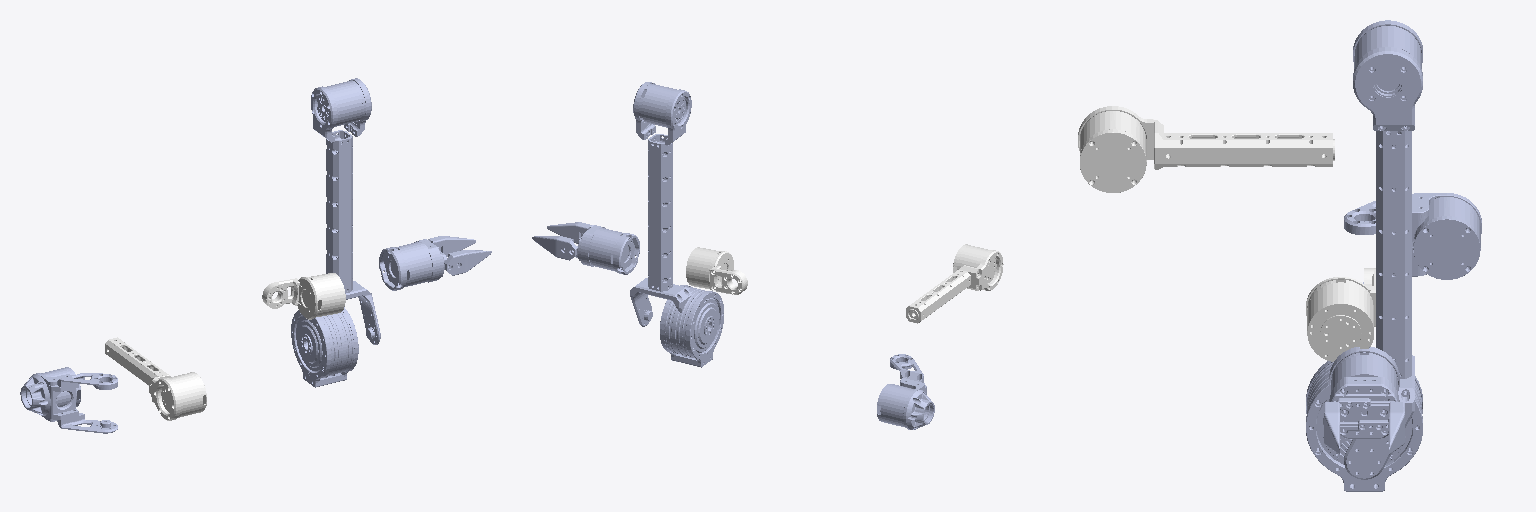
The robot description file, URDF, robot "A1_URDF":
<?xml version="1.0" encoding="utf-8"?>
<!-- This URDF was automatically created by SolidWorks to URDF Exporter! Originally created by [author] ([email redacted]) 
     Commit Version: 1.6.0-4-g7f85cfe  Build Version: 1.6.7995.38578
     For more information, please see http://wiki.ros.org/sw_urdf_exporter -->
<robot
  name="A1_URDF">
  <link
    name="base_link">
    <inertial>
      <origin
        xyz="-0.00056269 -4.1498E-06 0.038934"
        rpy="0 0 0" />
      <mass
        value="1.0" />
      <inertia
        ixx="0.0010597"
        ixy="1.6825E-07"
        ixz="1.9821E-05"
        iyy="0.0010647"
        iyz="1.9312E-07"
        izz="0.0011787" />
    </inertial>
    <visual>
      <origin
        xyz="0 0 0"
        rpy="0 0 0" />
      <geometry>
        <mesh
          filename="package://A1_URDF/meshes/base_link.STL" />
      </geometry>
      <material
        name="">
        <color
          rgba="0.79216 0.81961 0.93333 1" />
      </material>
    </visual>
    <collision>
      <origin
        xyz="0 0 0"
        rpy="0 0 0" />
      <geometry>
        <mesh
          filename="package://A1_URDF/meshes/base_link.STL" />
      </geometry>
    </collision>
  </link>
  <link
    name="arm_seg1">
    <inertial>
      <origin
        xyz="-1.4403E-06 -0.00074041 0.056573"
        rpy="0 0 0" />
      <mass
        value="0.95" />
      <inertia
        ixx="0.00058101"
        ixy="-7.5672E-09"
        ixz="-2.9207E-08"
        iyy="0.00070857"
        iyz="8.5639E-07"
        izz="0.00044583" />
    </inertial>
    <visual>
      <origin
        xyz="0 0 0"
        rpy="0 0 0" />
      <geometry>
        <mesh
          filename="package://A1_URDF/meshes/arm_seg1.STL" />
      </geometry>
      <material
        name="">
        <color
          rgba="0.79216 0.81961 0.93333 1" />
      </material>
    </visual>
    <collision>
      <origin
        xyz="0 0 0"
        rpy="0 0 0" />
      <geometry>
        <mesh
          filename="package://A1_URDF/meshes/arm_seg1.STL" />
      </geometry>
    </collision>
  </link>
  <joint
    name="arm_joint1"
    type="revolute">
    <origin
      xyz="-0.0011147 0 0.0892"
      rpy="0 0 3.1416" />
    <parent
      link="base_link" />
    <child
      link="arm_seg1" />
    <axis
      xyz="0 0 1" />
    <limit
      lower="-2.8798"
      upper="2.8798"
      effort="40"
      velocity="20.944" />
  </joint>
  <link
    name="arm_seg2">
    <inertial>
      <origin
        xyz="0.23622 0.016356 9.154E-05"
        rpy="0 0 0" />
      <mass
        value="1.0" />
      <inertia
        ixx="0.00060643"
        ixy="-0.00041827"
        ixz="0.00014951"
        iyy="0.0075939"
        iyz="8.093E-06"
        izz="0.0075715" />
    </inertial>
    <visual>
      <origin
        xyz="0 0 0"
        rpy="0 0 0" />
      <geometry>
        <mesh
          filename="package://A1_URDF/meshes/arm_seg2.STL" />
      </geometry>
      <material
        name="">
        <color
          rgba="0.79216 0.81961 0.93333 1" />
      </material>
    </visual>
    <collision>
      <origin
        xyz="0 0 0"
        rpy="0 0 0" />
      <geometry>
        <mesh
          filename="package://A1_URDF/meshes/arm_seg2.STL" />
      </geometry>
    </collision>
  </link>
  <joint
    name="arm_joint2"
    type="revolute">
    <origin
      xyz="0 -4E-05 0.0615"
      rpy="1.5708 0 0" />
    <parent
      link="arm_seg1" />
    <child
      link="arm_seg2" />
    <axis
      xyz="0 0 1" />
    <limit
      lower="0"
      upper="3.1415"
      effort="40"
      velocity="20.944" />
  </joint>
  <link
    name="arm_seg3">
    <inertial>
      <origin
        xyz="0.054443 0.045347 0.00042807"
        rpy="0 0 0" />
      <mass
        value="0.70" />
      <inertia
        ixx="0.0013904"
        ixy="-0.00022559"
        ixz="9.6874E-06"
        iyy="0.00059564"
        iyz="7.1658E-06"
        izz="0.0014962" />
    </inertial>
    <visual>
      <origin
        xyz="0 0 0"
        rpy="0 0 0" />
      <geometry>
        <mesh
          filename="package://A1_URDF/meshes/arm_seg3.STL" />
      </geometry>
      <material
        name="">
        <color
          rgba="0.79216 0.81961 0.93333 1" />
      </material>
    </visual>
    <collision>
      <origin
        xyz="0 0 0"
        rpy="0 0 0" />
      <geometry>
        <mesh
          filename="package://A1_URDF/meshes/arm_seg3.STL" />
      </geometry>
    </collision>
  </link>
  <joint
    name="arm_joint3"
    type="revolute">
    <origin
      xyz="0.34928 0.02 0"
      rpy="0 0 1.5708" />
    <parent
      link="arm_seg2" />
    <child
      link="arm_seg3" />
    <axis
      xyz="0 0 1" />
    <limit
      lower="-3.3161"
      upper="0"
      effort="27"
      velocity="7.5398" />
  </joint>
  <link
    name="arm_seg4">
    <inertial>
      <origin
        xyz="7.6256E-07 -0.0021448 0.27415"
        rpy="0 0 0" />
      <mass
        value="0.4" />
      <inertia
        ixx="9.7042E-05"
        ixy="-5.177E-09"
        ixz="-2.2681E-09"
        iyy="0.00010174"
        iyz="8.2528E-07"
        izz="8.4501E-05" />
    </inertial>
    <visual>
      <origin
        xyz="0 0 0"
        rpy="0 0 0" />
      <geometry>
        <mesh
          filename="package://A1_URDF/meshes/arm_seg4.STL" />
      </geometry>
      <material
        name="">
        <color
          rgba="1 1 1 1" />
      </material>
    </visual>
    <collision>
      <origin
        xyz="0 0 0"
        rpy="0 0 0" />
      <geometry>
        <mesh
          filename="package://A1_URDF/meshes/arm_seg4.STL" />
      </geometry>
    </collision>
  </link>
  <joint
    name="arm_joint4"
    type="revolute">
    <origin
      xyz="0.07 -0.00395 -4E-05"
      rpy="-1.5708 1.5708 0" />
    <parent
      link="arm_seg3" />
    <child
      link="arm_seg4" />
    <axis
      xyz="0 0 1" />
    <limit
      lower="-2.8798"
      upper="2.8798"
      effort="7"
      velocity="25.133" />
  </joint>
  <link
    name="arm_seg5">
    <inertial>
      <origin
        xyz="-3.9997E-06 -0.05431 0.0034482"
        rpy="0 0 0" />
      <mass
        value="0.3" />
      <inertia
        ixx="0.00011332"
        ixy="7.432E-08"
        ixz="1.368E-08"
        iyy="8.3999E-05"
        iyz="-1.6234E-05"
        izz="9.8497E-05" />
    </inertial>
    <visual>
      <origin
        xyz="0 0 0"
        rpy="0 0 0" />
      <geometry>
        <mesh
          filename="package://A1_URDF/meshes/arm_seg5.STL" />
      </geometry>
      <material
        name="">
        <color
          rgba="1 1 1 1" />
      </material>
    </visual>
    <collision>
      <origin
        xyz="0 0 0"
        rpy="0 0 0" />
      <geometry>
        <mesh
          filename="package://A1_URDF/meshes/arm_seg5.STL" />
      </geometry>
    </collision>
  </link>
  <joint
    name="arm_joint5"
    type="revolute">
    <origin
      xyz="0 0 0.2776"
      rpy="-1.5708 0 3.1416" />
    <parent
      link="arm_seg4" />
    <child
      link="arm_seg5" />
    <axis
      xyz="0 0 1" />
    <limit
      lower="-1.6581"
      upper="1.6581"
      effort="7"
      velocity="25.133" />
  </joint>
  <link
    name="arm_seg6">
    <inertial>
      <origin
        xyz="2.406E-06 -9.4582E-08 -0.038796"
        rpy="0 0 0" />
      <mass
        value="0.35" />
      <inertia
        ixx="0.00011445"
        ixy="3.336E-10"
        ixz="1.4799E-08"
        iyy="0.00011239"
        iyz="-6.1057E-10"
        izz="7.4519E-05" />
    </inertial>
    <visual>
      <origin
        xyz="0 0 0"
        rpy="0 0 0" />
      <geometry>
        <mesh
          filename="package://A1_URDF/meshes/arm_seg6.STL" />
      </geometry>
      <material
        name="">
        <color
          rgba="0.79216 0.81961 0.93333 1" />
      </material>
    </visual>
    <collision>
      <origin
        xyz="0 0 0"
        rpy="0 0 0" />
      <geometry>
        <mesh
          filename="package://A1_URDF/meshes/arm_seg6.STL" />
      </geometry>
    </collision>
  </link>
  <joint
    name="arm_joint6"
    type="revolute">
    <origin
      xyz="0 -0.1575 -0.00023266"
      rpy="1.5708 0 0" />
    <parent
      link="arm_seg5" />
    <child
      link="arm_seg6" />
    <axis
      xyz="0 0 1" />
    <limit
      lower="-2.8798"
      upper="2.8798"
      effort="7"
      velocity="25.133" />
  </joint>
  <link
    name="gripper1">
    <inertial>
      <origin
        xyz="0.022575 -0.01276 0.015787"
        rpy="0 0 0" />
      <mass
        value="0.020333" />
      <inertia
        ixx="1.7676E-06"
        ixy="8.2594E-08"
        ixz="2.5995E-07"
        iyy="4.7258E-06"
        iyz="1.2291E-07"
        izz="5.2672E-06" />
    </inertial>
    <visual>
      <origin
        xyz="0 0 0"
        rpy="0 0 0" />
      <geometry>
        <mesh
          filename="package://A1_URDF/meshes/gripper1.STL" />
      </geometry>
      <material
        name="">
        <color
          rgba="0.79216 0.81961 0.93333 1" />
      </material>
    </visual>
    <collision>
      <origin
        xyz="0 0 0"
        rpy="0 0 0" />
      <geometry>
        <mesh
          filename="package://A1_URDF/meshes/gripper1.STL" />
      </geometry>
    </collision>
  </link>
  <joint
    name="gripper1_axis"
    type="prismatic">
    <origin
      xyz="0.014 -0.011914 0.003125"
      rpy="1.5708 -1.5708 3.1415" />
    <parent
      link="arm_seg6" />
    <child
      link="gripper1" />
    <axis
      xyz="0 0 1" />
    <limit
      lower="0"
      upper="0.03"
      effort="200"
      velocity="0.25" />
  </joint>
  <link
    name="gripper2">
    <inertial>
      <origin
        xyz="0.022575 -0.01276 0.015787"
        rpy="0 0 0" />
      <mass
        value="0.020333" />
      <inertia
        ixx="1.7676E-06"
        ixy="8.2594E-08"
        ixz="2.5995E-07"
        iyy="4.7258E-06"
        iyz="1.2291E-07"
        izz="5.2672E-06" />
    </inertial>
    <visual>
      <origin
        xyz="0 0 0"
        rpy="0 0 0" />
      <geometry>
        <mesh
          filename="package://A1_URDF/meshes/gripper2.STL" />
      </geometry>
      <material
        name="">
        <color
          rgba="0.79216 0.81961 0.93333 1" />
      </material>
    </visual>
    <collision>
      <origin
        xyz="0 0 0"
        rpy="0 0 0" />
      <geometry>
        <mesh
          filename="package://A1_URDF/meshes/gripper2.STL" />
      </geometry>
    </collision>
  </link>
  <joint
    name="gripper2_axis"
    type="prismatic">
    <origin
      xyz="-0.014 0.011914 0.003125"
      rpy="-1.5708 -1.5708 3.1415" />
    <parent
      link="arm_seg6" />
    <child
      link="gripper2" />
    <axis
      xyz="0 0 1" />
    <limit
      lower="0"
      upper="0.03"
      effort="200"
      velocity="0.25" />
  </joint>
</robot>

--- Facts derived from the render (not from the file) ---
Views: 3 orthographic renders of the robot side by side, from view 1: azimuth 30°, elevation 25°; view 2: azimuth 150°, elevation 25°; view 3: azimuth 270°, elevation 25°.
Model A1_URDF with 9 links and 8 joints (6 revolute, 2 prismatic), rooted at base_link, posed every joint at zero.
Links seen in each view (by area): view 1: arm_seg2, arm_seg1, arm_seg6, arm_seg3, arm_seg4, arm_seg5; view 2: arm_seg2, arm_seg1, arm_seg6, arm_seg4, arm_seg3, arm_seg5; view 3: arm_seg2, arm_seg4, arm_seg6, arm_seg3, arm_seg5, arm_seg1.
Boxes of the visible links, x1,y1,x2,y2 form: arm_seg2: (311, 78, 380, 344); arm_seg1: (291, 307, 358, 387); arm_seg6: (379, 236, 491, 290); arm_seg3: (20, 367, 117, 433); arm_seg4: (105, 337, 206, 420); arm_seg5: (262, 273, 345, 319); arm_seg2: (630, 82, 691, 326); arm_seg1: (660, 285, 723, 367); arm_seg6: (532, 222, 639, 274); arm_seg4: (906, 244, 1003, 323); arm_seg3: (877, 354, 934, 429); arm_seg5: (686, 247, 747, 294); arm_seg2: (1344, 20, 1422, 479); arm_seg4: (1078, 106, 1334, 192); arm_seg6: (1324, 347, 1404, 454); arm_seg3: (1344, 193, 1481, 283); arm_seg5: (1306, 268, 1375, 361); arm_seg1: (1306, 361, 1422, 491).
Size in the robot's own frame: 0.6886 by 0.3431 by 0.4325 metres.
6 mesh visuals loaded from 9 distinct referenced files (6 binary STL); not drawn: 3 (reference not matched to a file when rendering).
